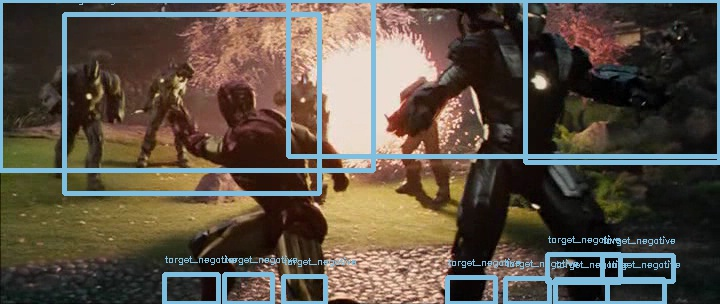person: (215, 76, 250, 122), (214, 76, 249, 122), (216, 76, 251, 122), (215, 75, 250, 121), (215, 77, 250, 123)
target_negative: (362, 117, 607, 270), (598, 52, 712, 213), (346, 17, 632, 67), (8, 212, 171, 242), (627, 94, 642, 189), (709, 198, 712, 276)
